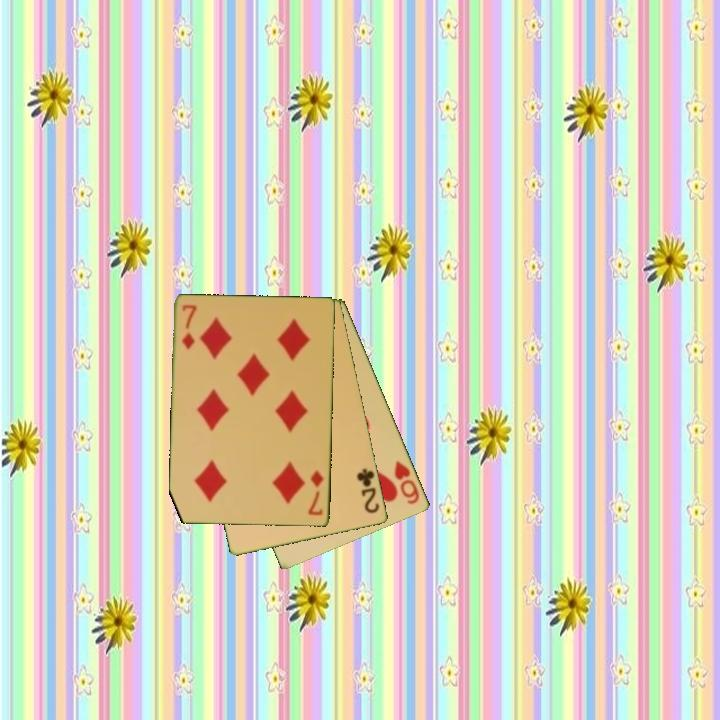2c: (353, 465, 383, 516)
6h: (391, 457, 423, 507)
7d: (305, 467, 327, 518), (179, 301, 199, 352)
